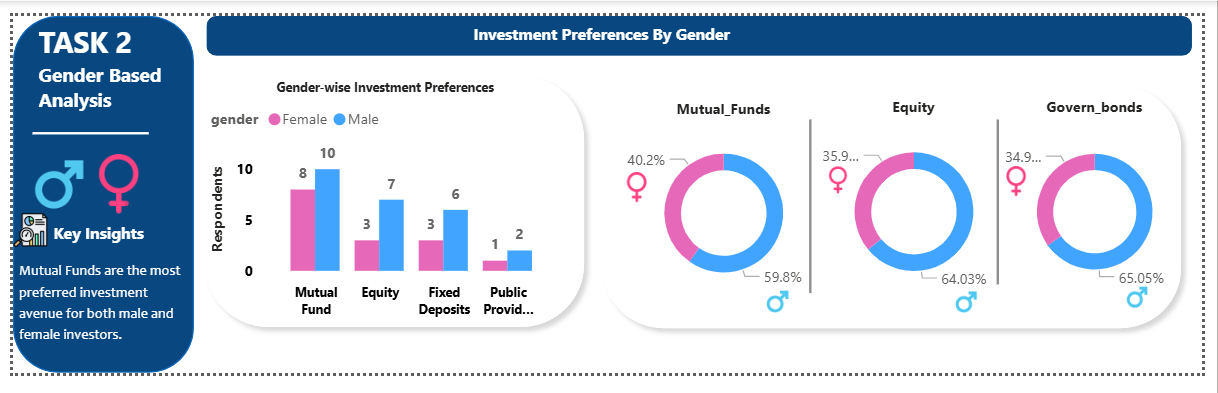

What the dashboard file says about the page in this screenshot:
{"tool":"powerbi","page":{"name":"Task 2","canvas":[1000,300],"ordinal":1},"visuals":[{"type":"shape","box":[0,0,152.2,300],"z":0},{"type":"shape","box":[162.2,0,828.9,33.3],"z":1000},{"type":"textbox","box":[16.7,0,115.6,50],"z":2000},{"type":"textbox","box":[16.7,33.3,234.4,53.3],"z":3000},{"type":"shape","box":[16.7,16.7,97.8,164.4],"z":4000},{"type":"image","box":[2.2,117.8,72.2,48.9],"z":5000},{"type":"image","box":[58.9,116.7,58.9,50],"z":6000},{"type":"textbox","box":[382.2,0,561.1,28.9],"z":7000},{"type":"shape","box":[152.2,42.2,336.7,228.9],"z":8000},{"type":"shape","box":[486.7,50,504.4,221.1],"z":9000},{"type":"clusteredColumnChart","title":"Gender-wise Investment Preferences","fields":{"Series":["Data_set 2.gender"],"Category":["Data_set 2.Avenue"],"Y":["Data_set 2.Total Respondents"]},"box":[162,53,303,208],"z":10000},{"type":"donutChart","title":"Mutual_Funds","fields":{"Category":["Data_set 2.gender"],"Y":["Sum(Data_set 2.Mutual_Funds)"]},"box":[511,70,173,176],"z":11000},{"type":"image","box":[632,226,22,29],"z":12000},{"type":"image","box":[511.2,131.2,27.5,25],"z":13000},{"type":"shape","box":[538.8,87.5,263.8,146.2],"z":14000},{"type":"donutChart","title":"Equity","fields":{"Category":["Data_set 2.gender"],"Y":["Sum(Data_set 2.Equity_Market)"]},"box":[671.2,68.8,172.5,176.2],"z":15000},{"type":"donutChart","title":"Govern_bonds","fields":{"Category":["Data_set 2.gender"],"Y":["Sum(Data_set 2.Government_Bonds)"]},"box":[827.5,68.8,163.8,176.2],"z":16000},{"type":"shape","box":[695,87.5,266.2,138.8],"z":17000},{"type":"image","box":[791.2,226.2,21.2,28.8],"z":18000},{"type":"image","box":[930,226.2,31.2,21.2],"z":19000},{"type":"image","box":[682.5,120,22.5,36.2],"z":20000},{"type":"image","box":[820,126.2,47.5,25],"z":21000},{"type":"image","box":[0,150.1,29.5,60.3],"z":23000},{"type":"textbox","box":[0,198.1,152.6,102.1],"z":24000},{"type":"textbox","box":[29.5,167.4,167.4,51.7],"z":25000}]}

Visuals, with their boxes on the page's 1000x300 design canvas (x1, y1, x2, y2). These are canvas units, not pixel positions in the 1218x393 screenshot, which may show the page scaled, cropped or inside an application window:
shape: bbox=[0, 0, 152, 300]
shape: bbox=[162, 0, 991, 33]
textbox: bbox=[17, 0, 132, 50]
textbox: bbox=[17, 33, 251, 87]
shape: bbox=[17, 17, 114, 181]
image: bbox=[2, 118, 74, 167]
image: bbox=[59, 117, 118, 167]
textbox: bbox=[382, 0, 943, 29]
shape: bbox=[152, 42, 489, 271]
shape: bbox=[487, 50, 991, 271]
"Gender-wise Investment Preferences" clusteredColumnChart: bbox=[162, 53, 465, 261]
"Mutual_Funds" donutChart: bbox=[511, 70, 684, 246]
image: bbox=[632, 226, 654, 255]
image: bbox=[511, 131, 539, 156]
shape: bbox=[539, 88, 803, 234]
"Equity" donutChart: bbox=[671, 69, 844, 245]
"Govern_bonds" donutChart: bbox=[828, 69, 991, 245]
shape: bbox=[695, 88, 961, 226]
image: bbox=[791, 226, 812, 255]
image: bbox=[930, 226, 961, 247]
image: bbox=[682, 120, 705, 156]
image: bbox=[820, 126, 868, 151]
image: bbox=[0, 150, 30, 210]
textbox: bbox=[0, 198, 153, 300]
textbox: bbox=[30, 167, 197, 219]
